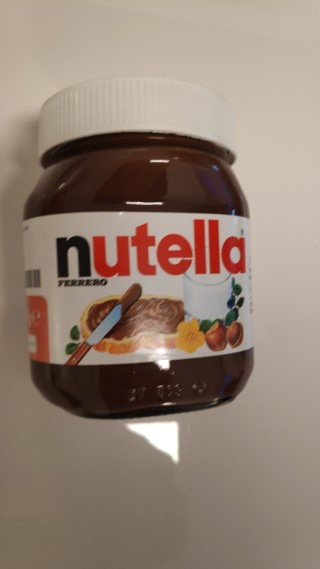nutella: (17, 71, 258, 422)
